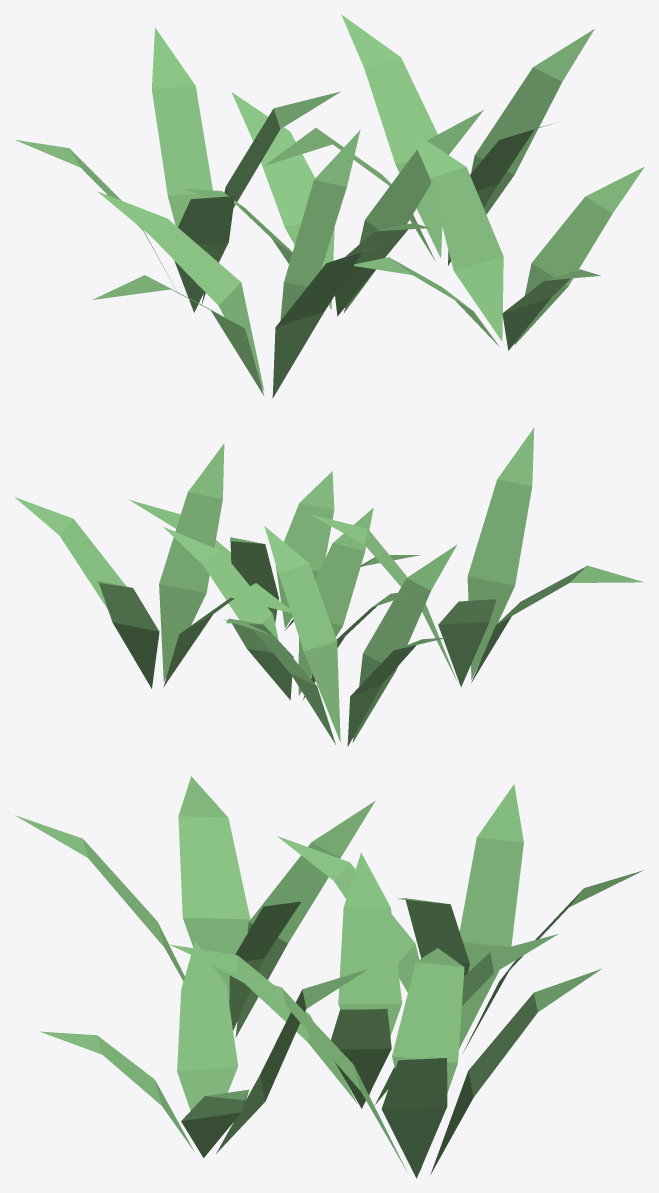
Rendered from grass.glb.
The picture shows the model from 3 angles, top to bottom: view 1: azimuth 30°, elevation 25°; view 2: azimuth 150°, elevation 25°; view 3: azimuth 270°, elevation 25°; orthographic projection. The views are drawn at different scales.
Parts seen in each view (by area): view 1: grass; view 2: grass; view 3: grass.
Boxes of the visible parts, x1,y1,x2,y2 form: grass: [14, 14, 644, 398]; grass: [15, 427, 643, 746]; grass: [15, 776, 643, 1178].
Bounding box in the file's own units: 2.81 × 0.9616 × 2.35.
